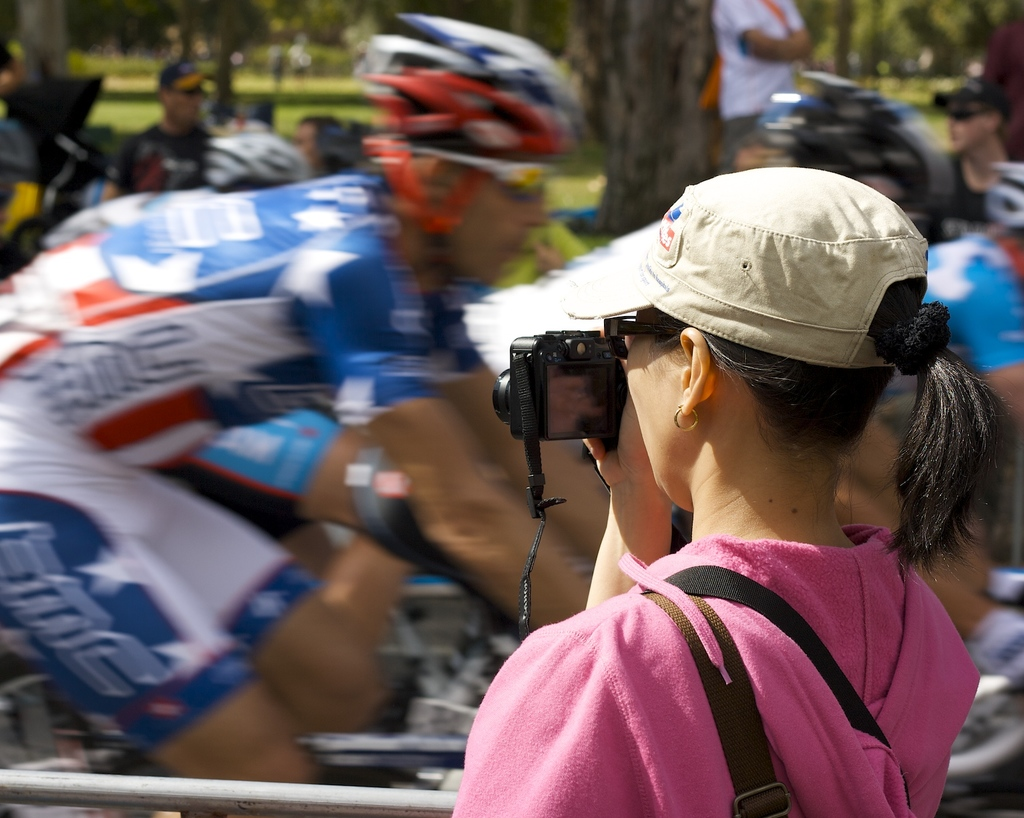Human_hand: (577, 325, 658, 494)
